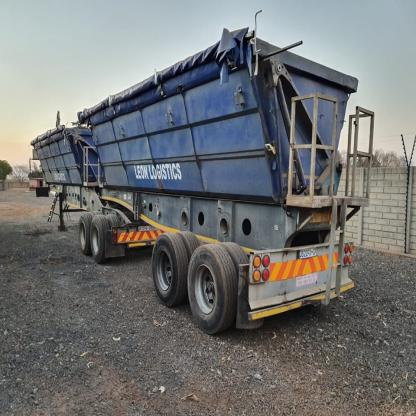dump_truck: (30, 21, 373, 340)
